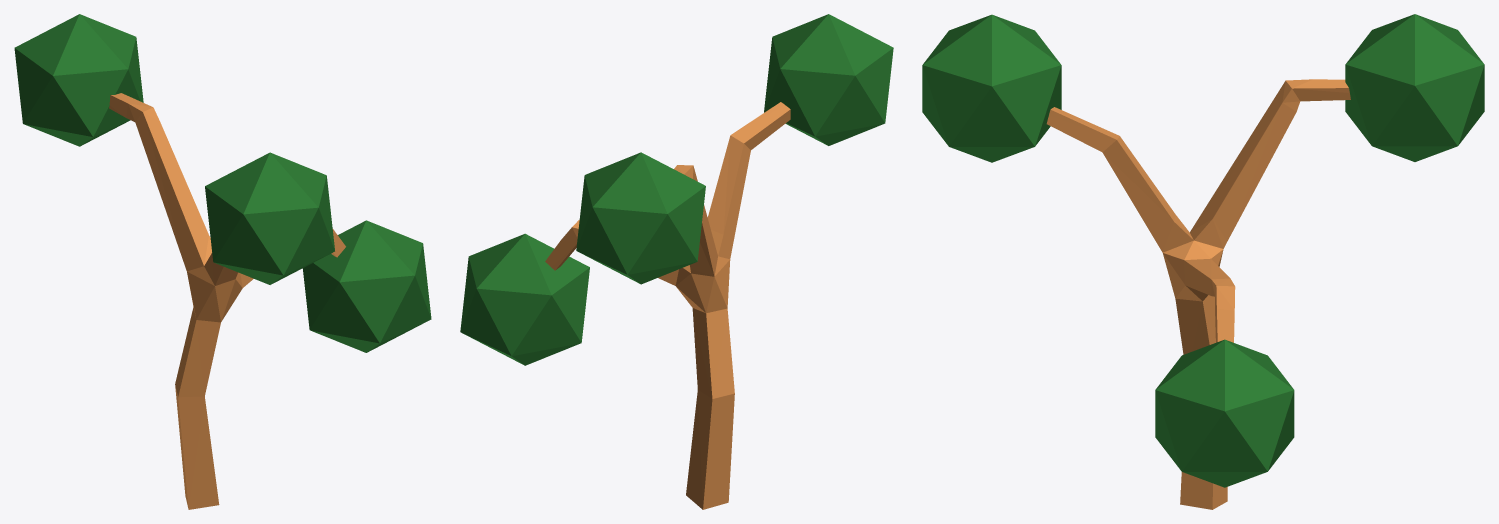
File: LowPolyTree1.fbx
The picture shows the model from 3 angles, left to right: view 1: azimuth 30°, elevation 25°; view 2: azimuth 150°, elevation 25°; view 3: azimuth 270°, elevation 25°; orthographic projection. The views are drawn at different scales.
Parts seen in each view (by area): view 1: Cube, Icosphere.002, Icosphere, Icosphere.001; view 2: Cube, Icosphere, Icosphere.001, Icosphere.002; view 3: Cube, Icosphere.001, Icosphere, Icosphere.002.
Boxes of the visible parts, x1,y1,x2,y2 form: Cube: (109,93,345,509); Icosphere.002: (205,152,334,284); Icosphere: (14,14,143,146); Icosphere.001: (302,220,431,352); Cube: (545,102,790,509); Icosphere: (576,152,705,284); Icosphere.001: (460,233,589,365); Icosphere.002: (764,14,893,145); Cube: (1046,79,1350,509); Icosphere.001: (1155,339,1294,487); Icosphere: (1345,14,1484,161); Icosphere.002: (922,14,1061,162).
Bounding box in the file's own units: 153 × 198 × 211.
